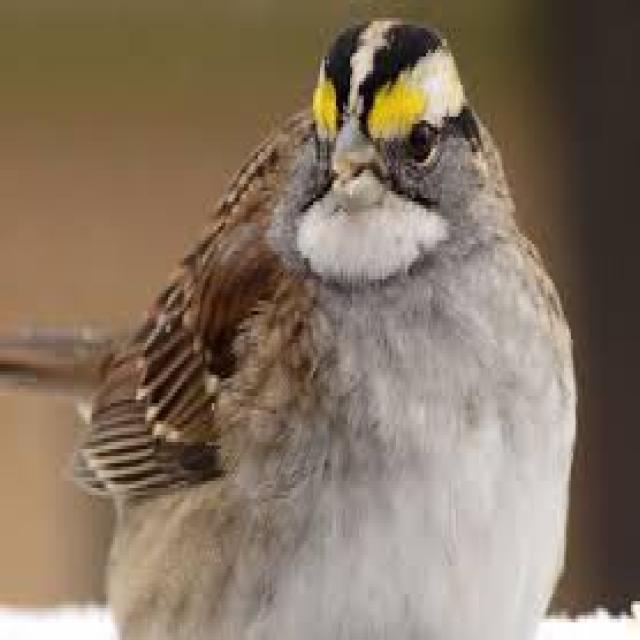Sparrow: (72, 14, 578, 639)
